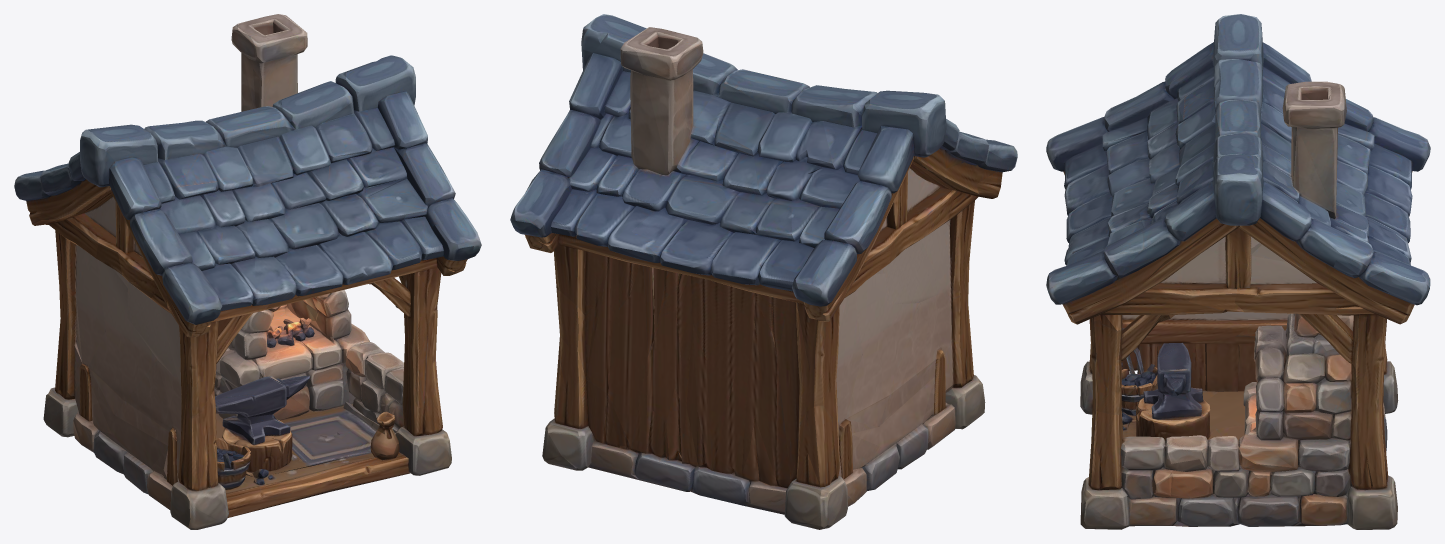
The model's file is forge.fbx.
3 renders of one model, left to right at view 1: azimuth 30°, elevation 25°; view 2: azimuth 150°, elevation 25°; view 3: azimuth 270°, elevation 25°, orthographic. The views are drawn at different scales.
Parts seen in each view (by area): view 1: forge; view 2: forge; view 3: forge.
Part boxes in pixels (left/top/right/bottom): forge: left=14, top=14, right=481, bottom=529; forge: left=510, top=14, right=1017, bottom=529; forge: left=1046, top=14, right=1430, bottom=529.
Size of the model in its own units: 5.36 by 6 by 5.24.
